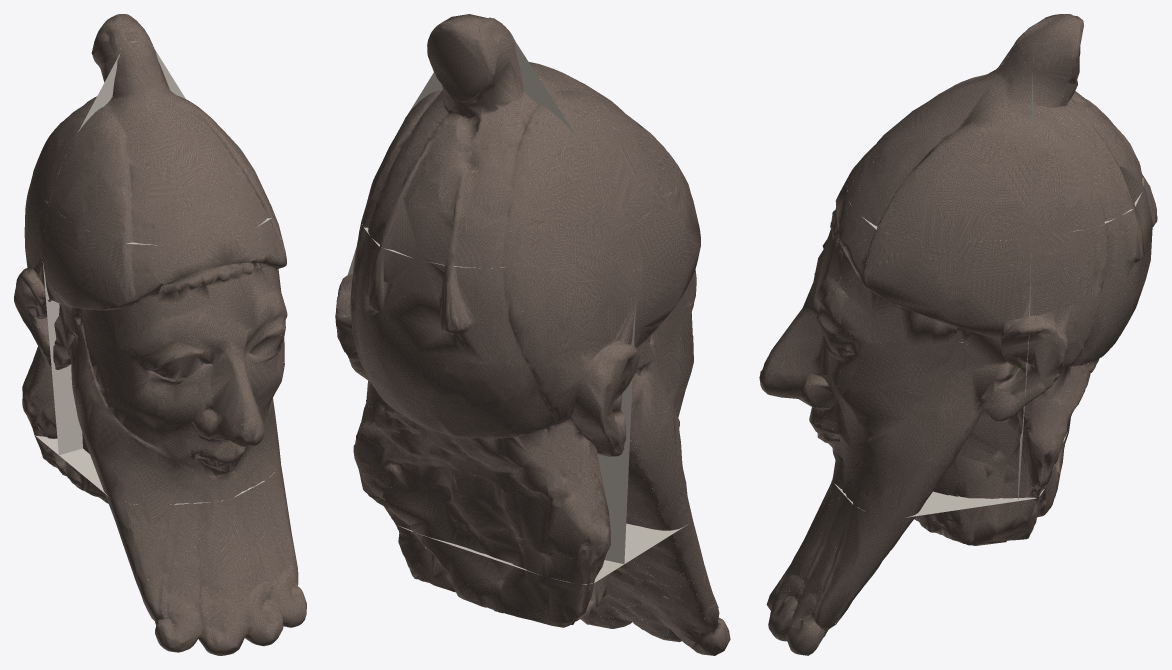
Rendered from head.glb.
The picture shows the model from 3 angles, left to right: view 1: azimuth 30°, elevation 25°; view 2: azimuth 150°, elevation 25°; view 3: azimuth 270°, elevation 25°; orthographic projection. The views are drawn at different scales.
Visible parts, largest first — view 1: frag_1, frag_3, frag_0, frag_2, frag_4; view 2: frag_2, frag_4, frag_1, frag_0, frag_3; view 3: frag_1, frag_3, frag_2, frag_0, frag_4.
Boxes of the visible parts, x1=… form: frag_1: x1=42, y1=190, x2=287, y2=505; frag_3: x1=49, y1=41, x2=272, y2=245; frag_0: x1=34, y1=435, x2=306, y2=655; frag_2: x1=14, y1=169, x2=135, y2=454; frag_4: x1=34, y1=14, x2=185, y2=203; frag_2: x1=335, y1=217, x2=639, y2=584; frag_4: x1=362, y1=14, x2=622, y2=268; frag_1: x1=347, y1=169, x2=700, y2=563; frag_0: x1=396, y1=513, x2=730, y2=655; frag_3: x1=394, y1=21, x2=679, y2=230; frag_1: x1=759, y1=161, x2=1031, y2=518; frag_3: x1=847, y1=26, x2=1033, y2=242; frag_2: x1=1018, y1=175, x2=1157, y2=499; frag_0: x1=766, y1=429, x2=1069, y2=655; frag_4: x1=1031, y1=14, x2=1143, y2=237.
Bounding box in the file's own units: 0.9201 × 2.25 × 1.33.
3 materials, 2 textured.
